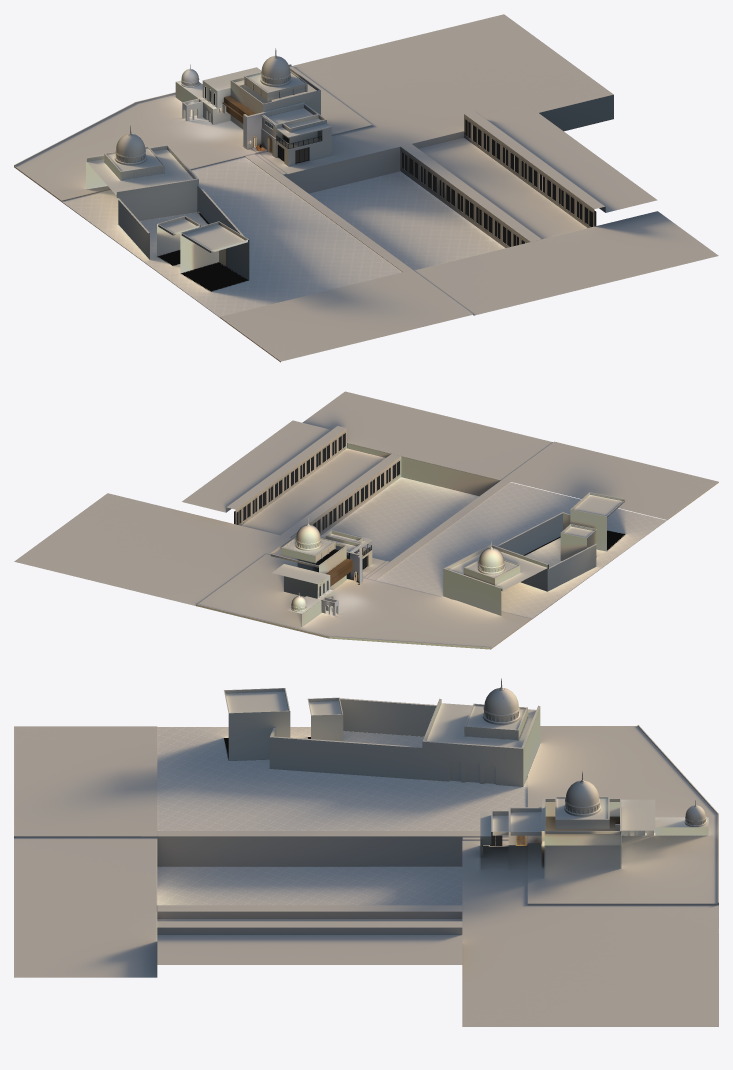
The model's file is 城市主题背景制作3.fbx.
The picture shows the model from 3 angles, top to bottom: view 1: azimuth 30°, elevation 25°; view 2: azimuth 150°, elevation 25°; view 3: azimuth 270°, elevation 25°; orthographic projection. The views are drawn at different scales.
Parts seen in each view (by area): view 1: ground01, ground02, building02, building01, Glass, Roof03, Roof01; view 2: ground01, ground02, building02, building01, Glass, Roof03, Roof01; view 3: ground01, ground02, building02, building01, Roof03, Roof01.
Part boxes in pixels (x1=…): ground01: x1=14, y1=14, x2=718, y2=362; ground02: x1=61, y1=157, x2=505, y2=317; building02: x1=86, y1=144, x2=249, y2=279; building01: x1=175, y1=67, x2=331, y2=166; Glass: x1=205, y1=87, x2=592, y2=246; Roof03: x1=114, y1=125, x2=146, y2=165; Roof01: x1=260, y1=48, x2=291, y2=86; ground01: x1=14, y1=391, x2=718, y2=649; ground02: x1=320, y1=477, x2=666, y2=619; building02: x1=443, y1=492, x2=625, y2=615; building01: x1=270, y1=530, x2=372, y2=626; Glass: x1=236, y1=433, x2=399, y2=595; Roof03: x1=478, y1=541, x2=505, y2=574; Roof01: x1=295, y1=518, x2=321, y2=550; ground01: x1=14, y1=725, x2=718, y2=1026; ground02: x1=157, y1=727, x2=527, y2=905; building02: x1=224, y1=688, x2=540, y2=786; building01: x1=480, y1=796, x2=708, y2=857; Roof03: x1=483, y1=678, x2=520, y2=724; Roof01: x1=564, y1=771, x2=600, y2=816.
Bounding box in the file's own units: 116 × 21.81 × 115.
